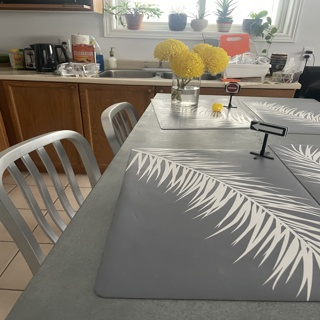sign_noentry: (227, 83, 236, 91)
sign_oneway_left: (249, 121, 286, 136)
